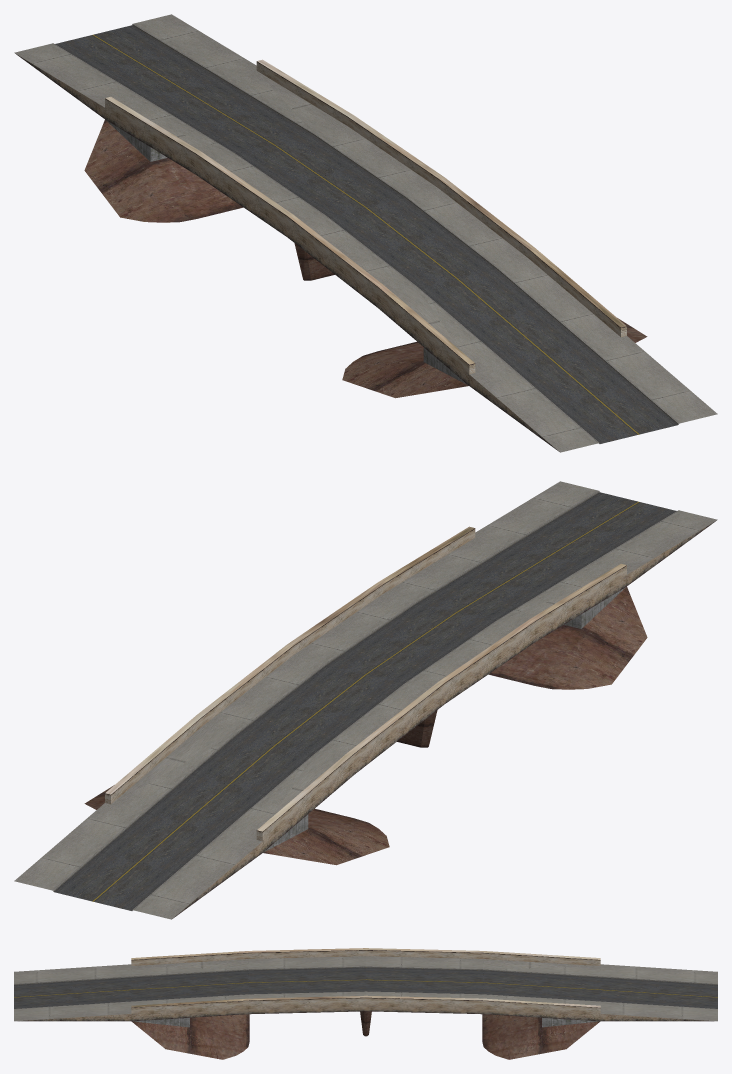
Rendered from vegasnroad65.obj.
3 views of the same model, one above another, from view 1: azimuth 30°, elevation 25°; view 2: azimuth 150°, elevation 25°; view 3: azimuth 270°, elevation 25° (orthographic). The views are drawn at different scales.
Parts seen in each view (by area): view 1: vegasNroad65; view 2: vegasNroad65; view 3: vegasNroad65.
Part boxes in pixels (x1,y1,x2,y2): vegasNroad65: [14, 14, 717, 452]; vegasNroad65: [14, 481, 717, 919]; vegasNroad65: [14, 948, 717, 1059].
Bounding box in the file's own units: 34.18 × 8.39 × 120.
Materials: 5 (5 with a texture image).
